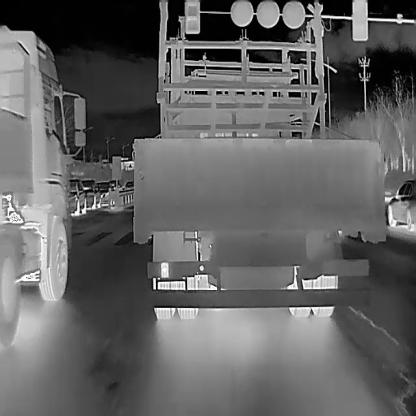car: (386, 176, 415, 232), (80, 177, 100, 210), (68, 178, 86, 214), (94, 180, 111, 206), (108, 178, 121, 193), (124, 178, 134, 192)
truck: (130, 58, 386, 318), (0, 23, 86, 351)
